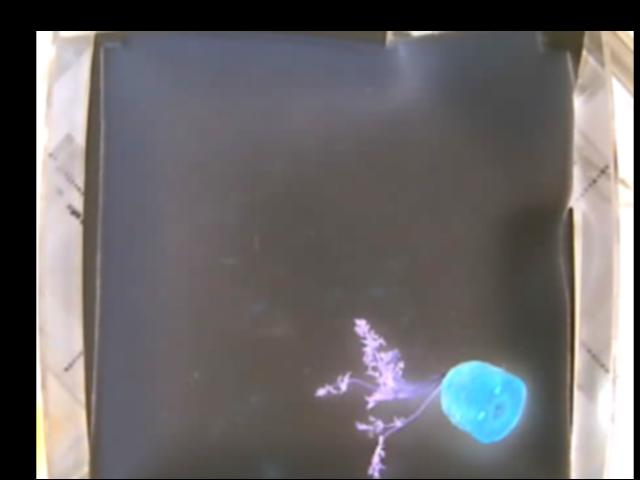Carrot: (313, 317, 527, 477)
